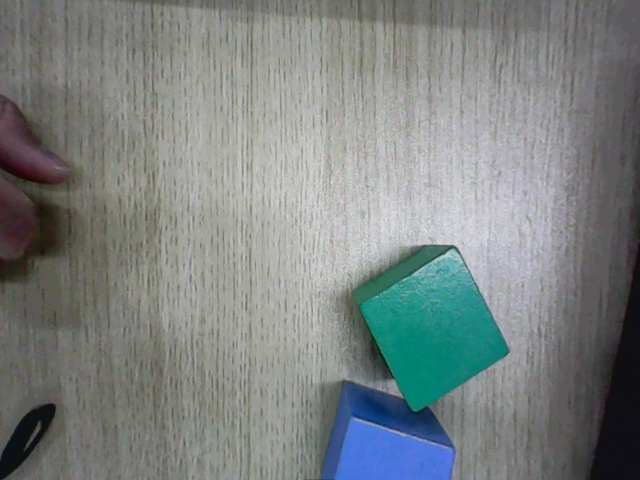upside of big cube: (358, 247, 512, 412), (333, 417, 458, 479)
